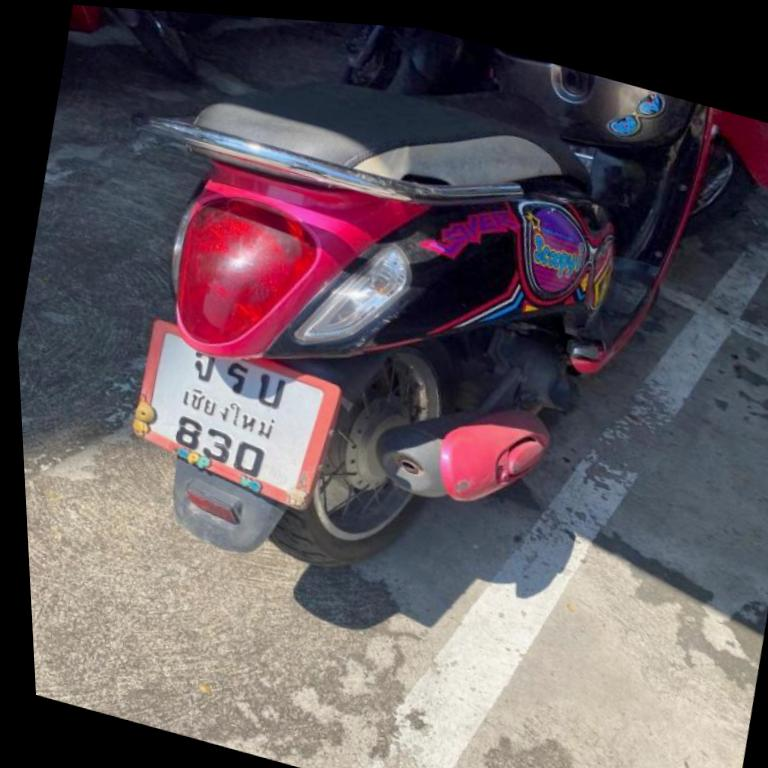license plate: (142, 321, 338, 505)
